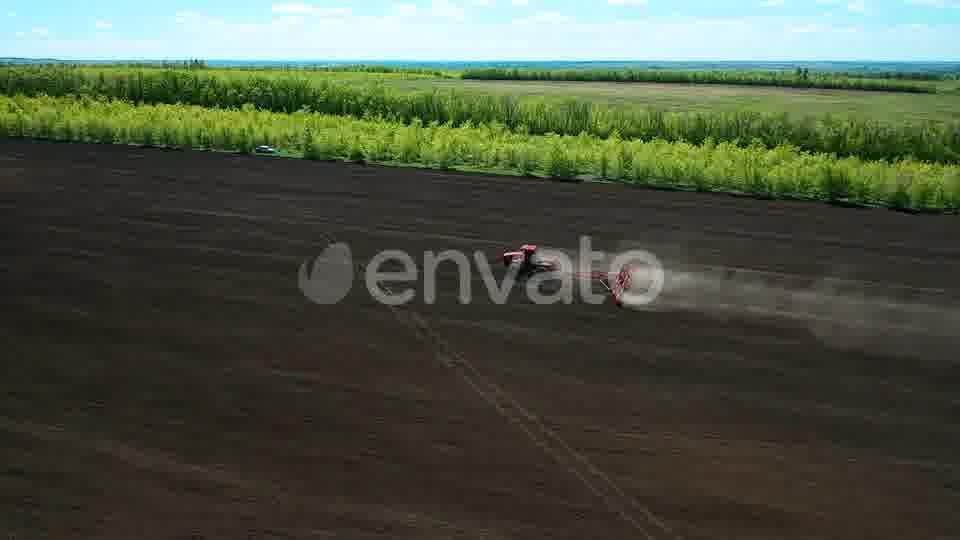tractor: (501, 242, 568, 282)
